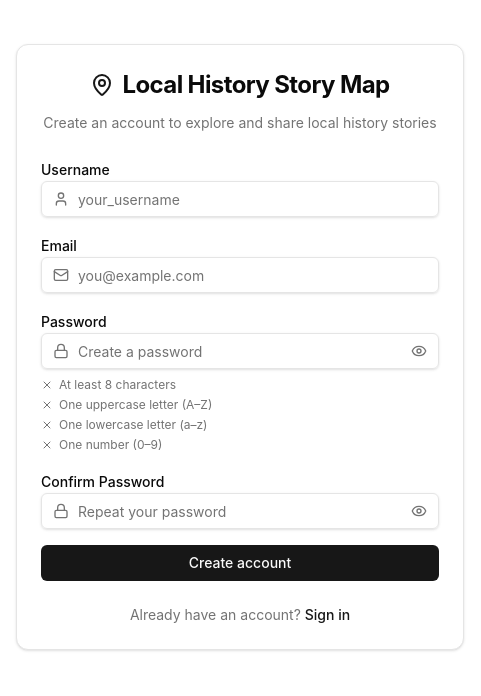
Test: RegisterPage › shows error when password is empty
The image size is (481, 696).
Type "testuser" into the field labelled "Username" at (240, 199), box [41, 181, 439, 217]
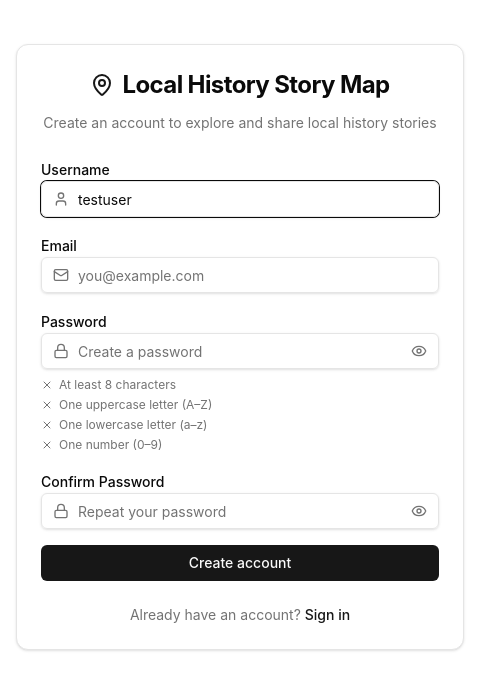
Type "test@example.com" into the field labelled "Email" at (240, 275), box [41, 257, 439, 293]
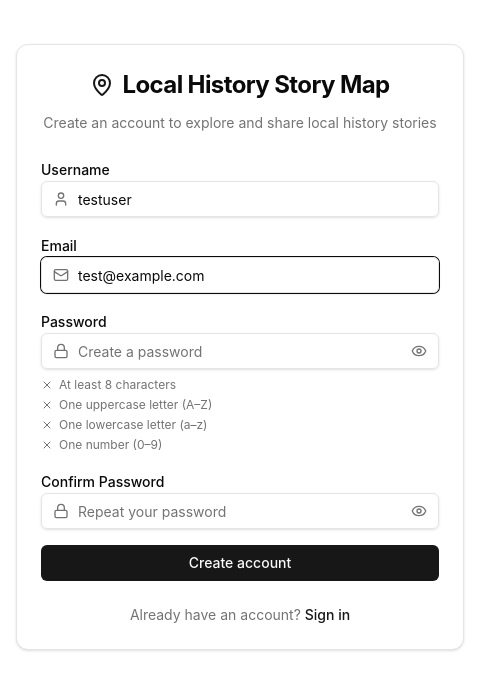
Type "Password1" into the password field labelled "Confirm Password" at (240, 511), box [41, 493, 439, 529]
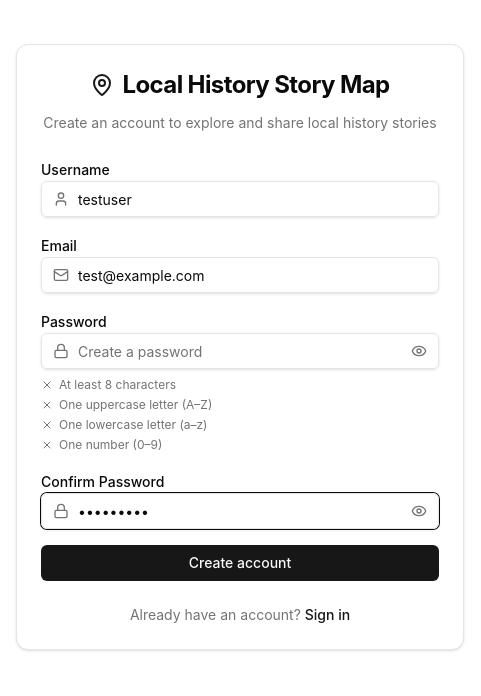
Click the button "Create account" at (240, 563), box [41, 545, 439, 581]
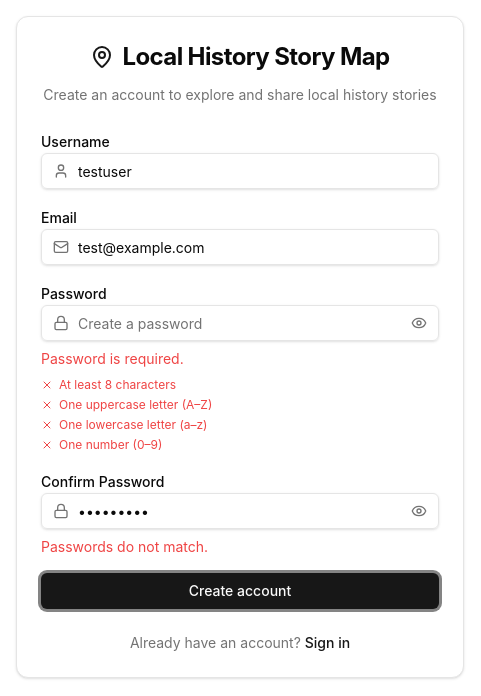
Check: the text "Password is required." is shown, box [41, 350, 184, 367]
